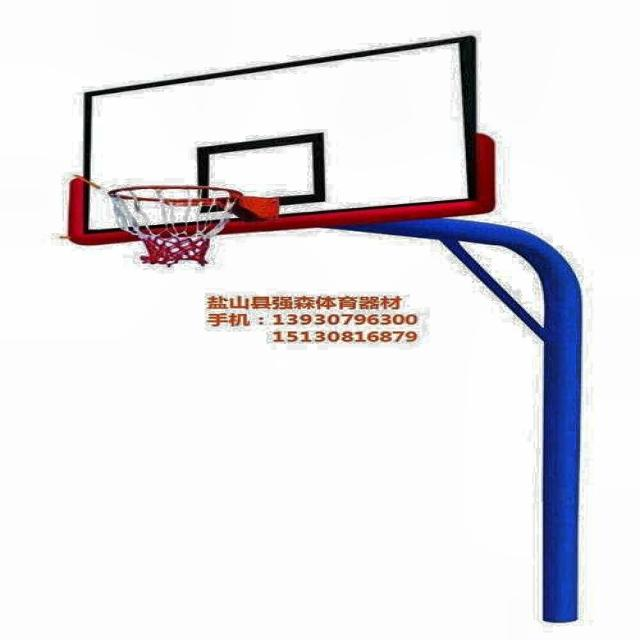rim: (110, 184, 245, 265)
